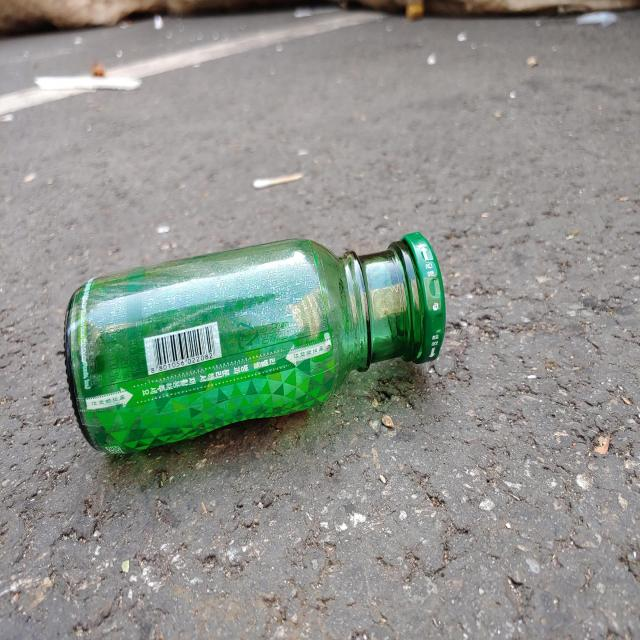glass: (64, 232, 446, 454)
